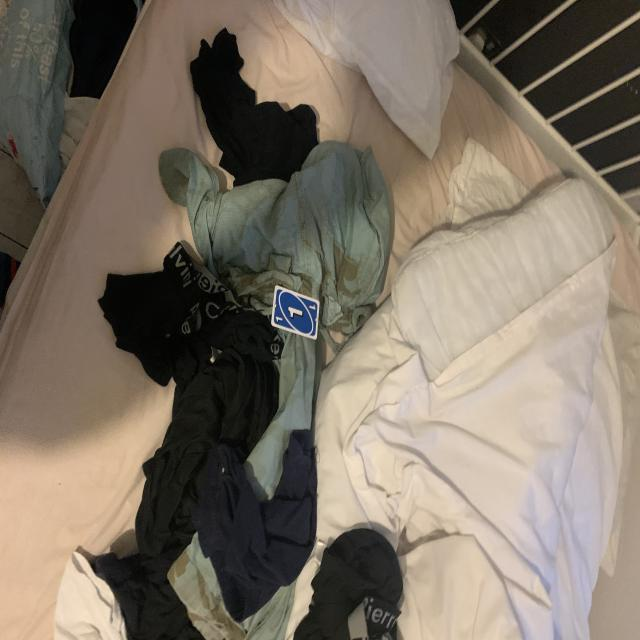lblue-1: (274, 314, 285, 326)
